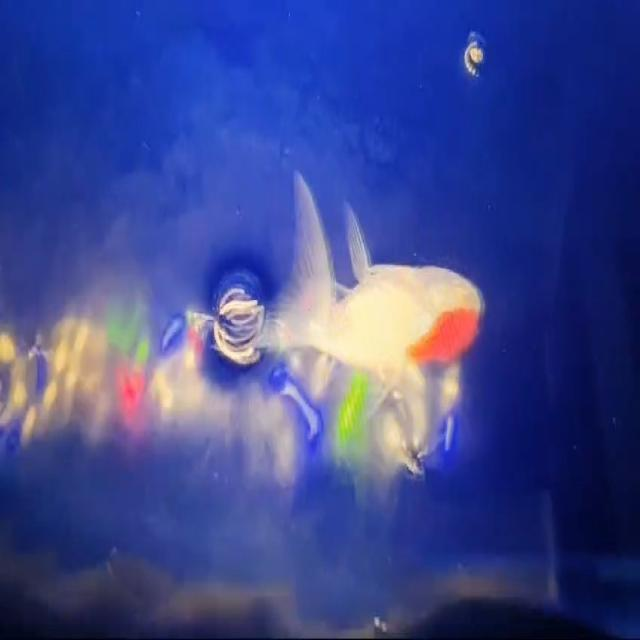fish: (274, 169, 488, 417)
